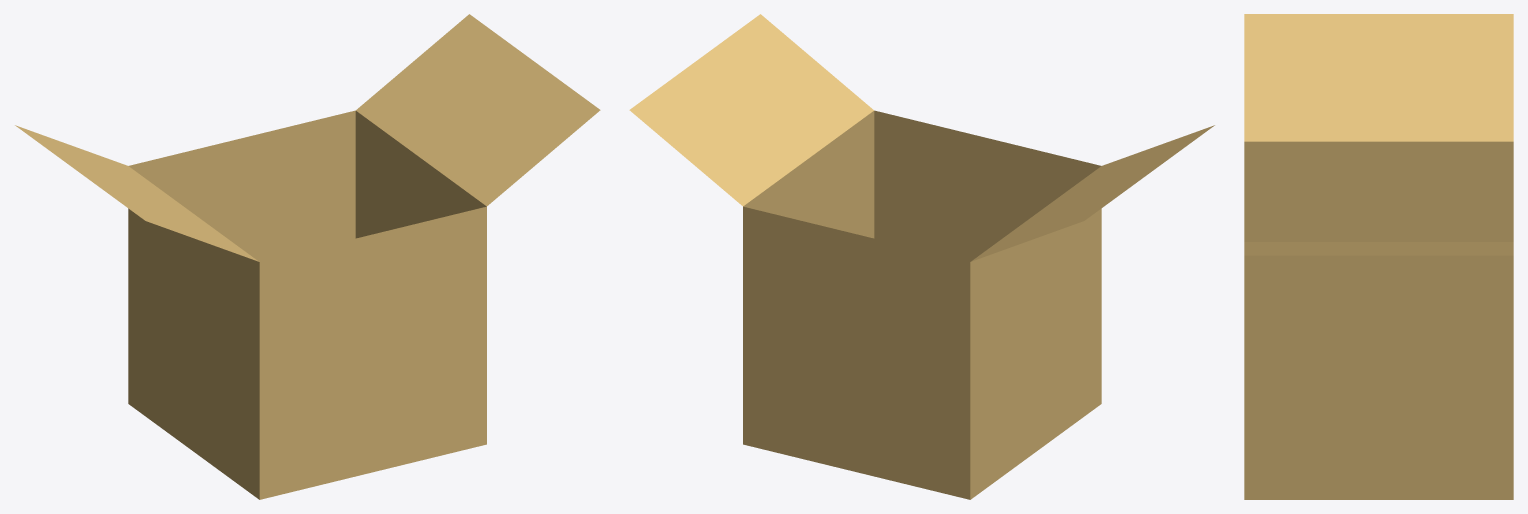
The model's file is cardbox.glb.
3 views of the same model, side by side, from view 1: azimuth 30°, elevation 25°; view 2: azimuth 150°, elevation 25°; view 3: azimuth 270°, elevation 25° (orthographic). The views are drawn at different scales.
Visible parts, largest first — view 1: cardbox, box_lid_right, box_lid_left; view 2: cardbox, box_lid_right, box_lid_left; view 3: cardbox, box_lid_left, box_lid_right.
Boxes of the visible parts, x1=… form: cardbox: x1=128, y1=110, x2=486, y2=499; box_lid_right: x1=356, y1=14, x2=600, y2=206; box_lid_left: x1=15, y1=125, x2=258, y2=261; cardbox: x1=743, y1=110, x2=1101, y2=499; box_lid_right: x1=629, y1=14, x2=873, y2=206; box_lid_left: x1=971, y1=125, x2=1214, y2=261; cardbox: x1=1244, y1=141, x2=1513, y2=499; box_lid_left: x1=1244, y1=14, x2=1513, y2=141; box_lid_right: x1=1244, y1=242, x2=1513, y2=255.
Bounding box in the file's own units: 4 × 2.58 × 2.
